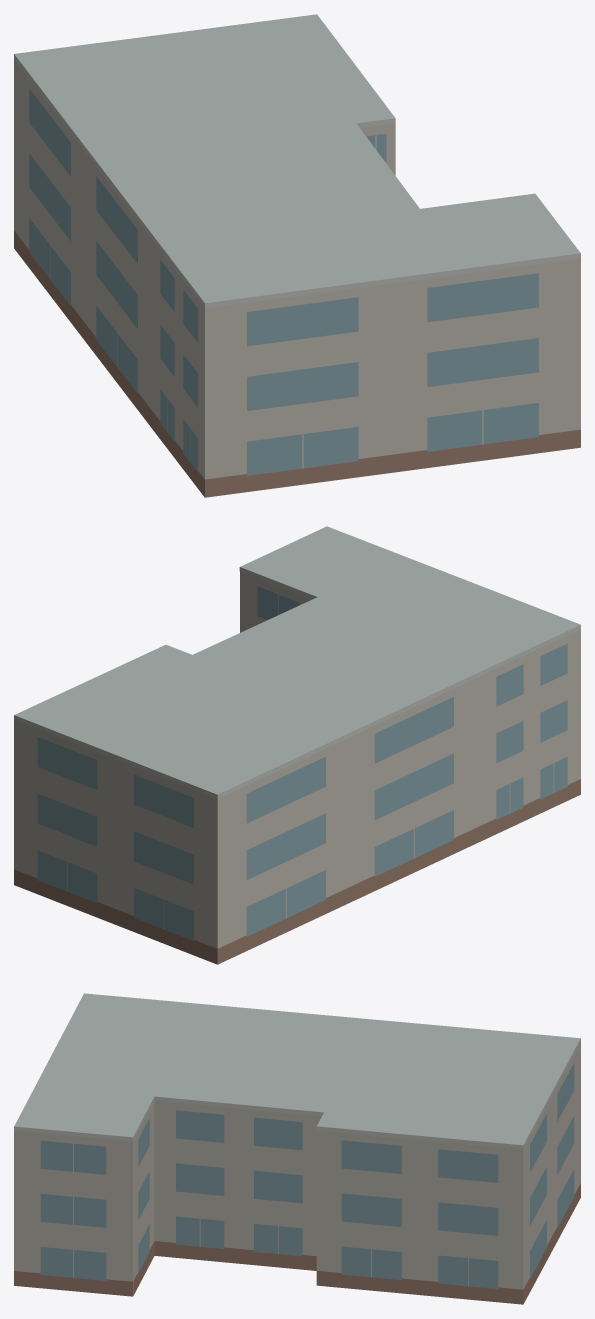
The model's file is survey-upis-32491430.glb.
The picture shows the model from 3 angles, top to bottom: view 1: azimuth 30°, elevation 25°; view 2: azimuth 150°, elevation 25°; view 3: azimuth 270°, elevation 25°; orthographic projection. The views are drawn at different scales.
Visible parts, largest first — view 1: survey-upis-32491430.tmp; view 2: survey-upis-32491430.tmp; view 3: survey-upis-32491430.tmp.
Part boxes in pixels (left/top/right/bottom): survey-upis-32491430.tmp: left=14, top=14, right=580, bottom=497; survey-upis-32491430.tmp: left=14, top=526, right=580, bottom=964; survey-upis-32491430.tmp: left=14, top=993, right=580, bottom=1304.
Bounding box in the file's own units: 18.74 × 9.15 × 29.53.
